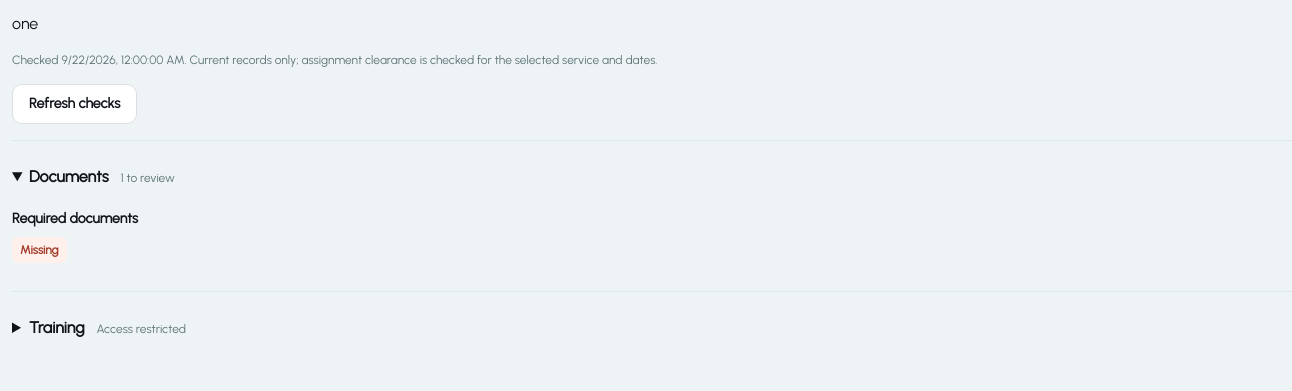
Test case: renders restricted and loading checks explicitly
Later steps or results of the test are not shown.
Click the heading "Training Access restricted".
click(107, 328)  # box [29,318,186,337]
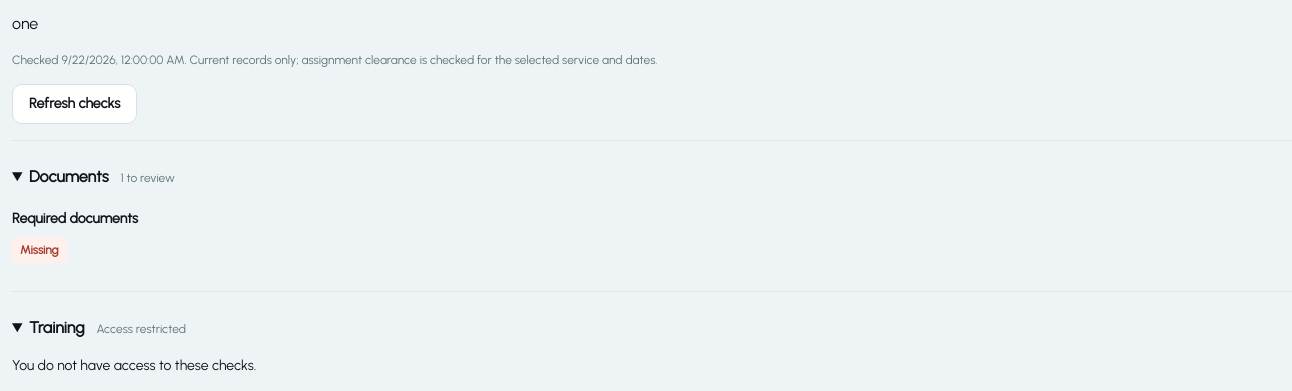
expect the text "Missing" is shown: met, box [12,237,67,263]
expect the text "You do not have access to these checks." is shown: met, box [12,357,256,374]
